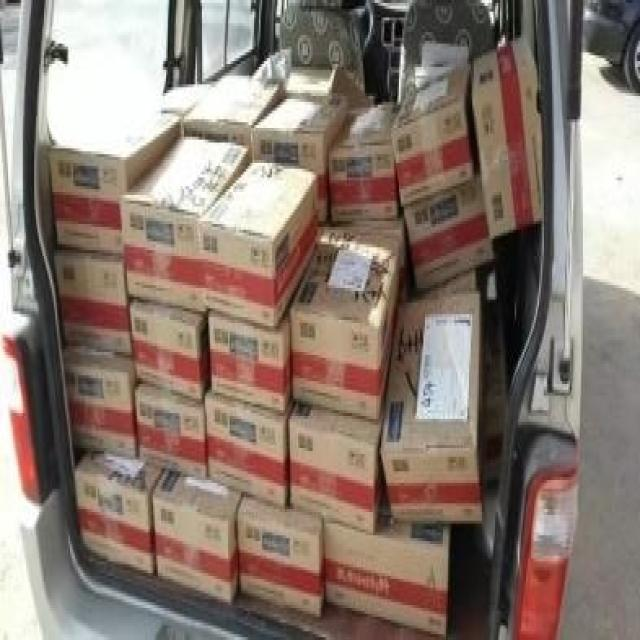box: (289, 216, 412, 420), (380, 291, 483, 523), (120, 133, 251, 314), (49, 98, 183, 253), (199, 163, 319, 328), (322, 484, 449, 636), (473, 36, 547, 239), (286, 400, 385, 534), (149, 468, 244, 604), (388, 63, 475, 206), (251, 95, 349, 221), (233, 495, 327, 620), (402, 171, 494, 294), (204, 385, 297, 505), (76, 455, 166, 570), (129, 299, 213, 403), (53, 247, 132, 356), (66, 346, 139, 461), (329, 110, 400, 222), (183, 72, 287, 148), (135, 386, 209, 475), (147, 78, 216, 117), (401, 268, 475, 303)
